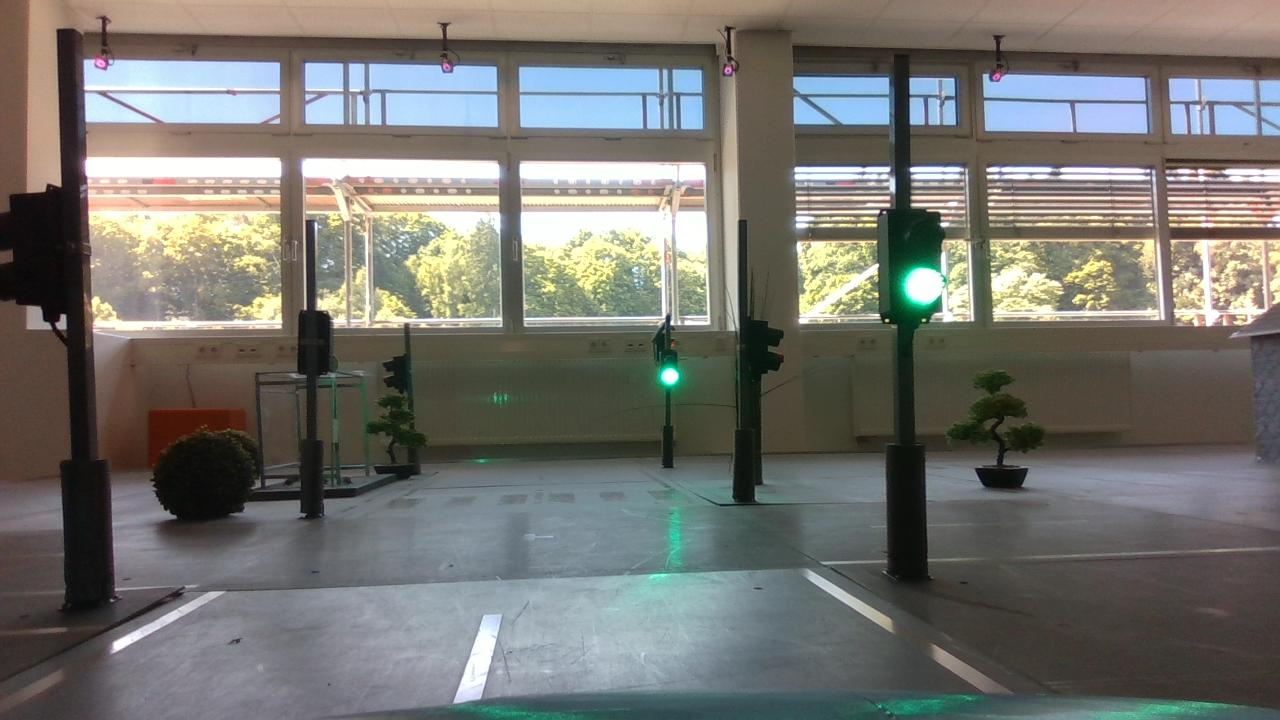traffic_light_green: (874, 205, 953, 339)
